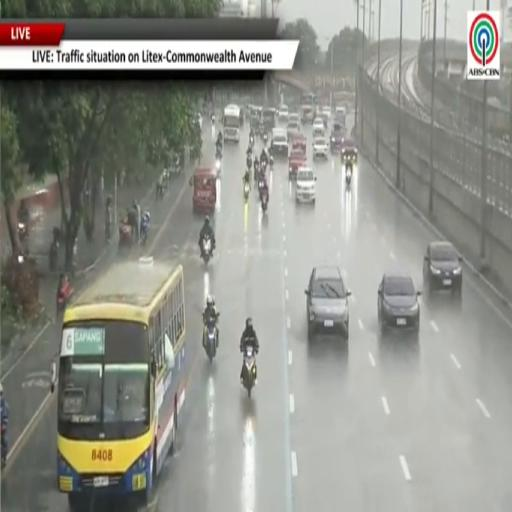bus: (51, 258, 190, 510), (222, 105, 241, 142), (300, 93, 316, 123)
car: (305, 266, 351, 341), (378, 271, 420, 333), (423, 242, 462, 295), (295, 167, 316, 203), (289, 148, 306, 179), (270, 128, 288, 157), (341, 137, 357, 166), (330, 122, 345, 152), (313, 137, 329, 158), (287, 114, 300, 139), (313, 118, 324, 136), (321, 106, 330, 127), (278, 105, 288, 122), (335, 106, 345, 118), (195, 114, 202, 130), (322, 106, 331, 118)
motorcycle: (242, 346, 256, 397), (204, 317, 218, 362), (49, 227, 61, 271), (57, 281, 73, 312), (119, 218, 133, 248), (0, 426, 8, 469), (141, 212, 150, 246), (49, 240, 58, 271), (202, 237, 212, 264), (18, 222, 28, 243), (261, 191, 268, 213), (253, 161, 260, 182), (258, 178, 265, 197), (346, 165, 352, 187), (105, 221, 111, 242), (244, 182, 250, 201), (216, 143, 222, 159), (246, 154, 252, 169), (216, 158, 221, 173), (249, 136, 254, 148), (269, 155, 273, 169), (262, 132, 267, 143), (211, 114, 215, 124)
